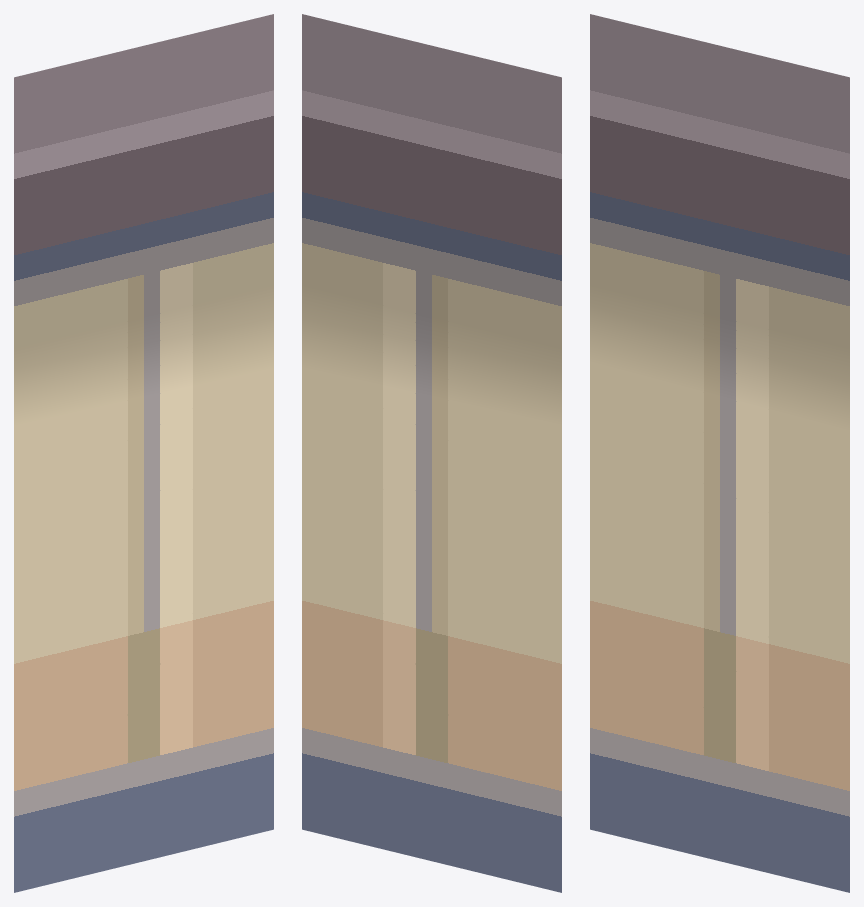
3 views of the same model, side by side, from view 1: azimuth 30°, elevation 25°; view 2: azimuth 150°, elevation 25°; view 3: azimuth 330°, elevation 25° (orthographic).
Bounding box in the file's own units: 1 × 3 × 0.
1 material, 1 textured.
